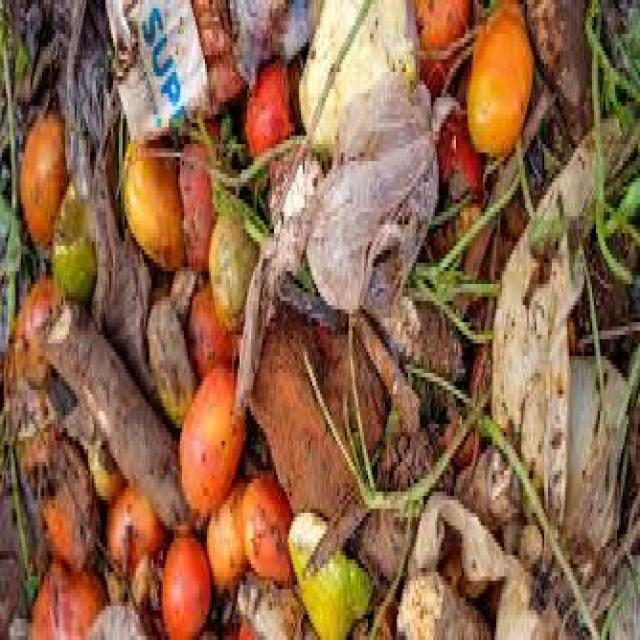Wet: (30, 430, 99, 573), (468, 12, 532, 151), (119, 138, 184, 274), (181, 368, 239, 506), (20, 110, 64, 240), (28, 568, 102, 638), (240, 486, 296, 574), (165, 537, 212, 639), (246, 58, 289, 150), (19, 283, 54, 383), (110, 482, 150, 566)
